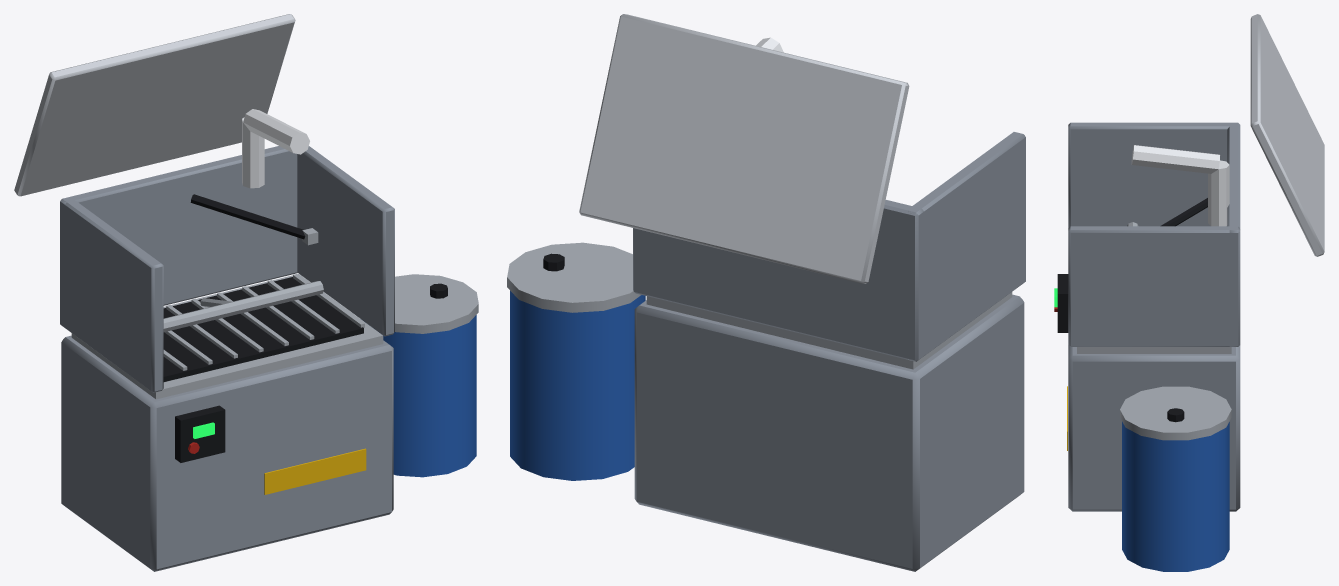
The model's file is hangartool_parts_washer.glb.
3 renders of one model, left to right at view 1: azimuth 30°, elevation 25°; view 2: azimuth 150°, elevation 25°; view 3: azimuth 270°, elevation 25°, orthographic. The views are drawn at different scales.
Visible parts, largest first — view 1: hangartool_parts_washer; view 2: hangartool_parts_washer; view 3: hangartool_parts_washer.
Boxes of the visible parts, x1,y1,x2,y2 form: hangartool_parts_washer: (14,14,478,571); hangartool_parts_washer: (507,14,1025,571); hangartool_parts_washer: (1054,14,1324,571).
Size of the model in its own units: 1.85 by 2.01 by 1.26.
